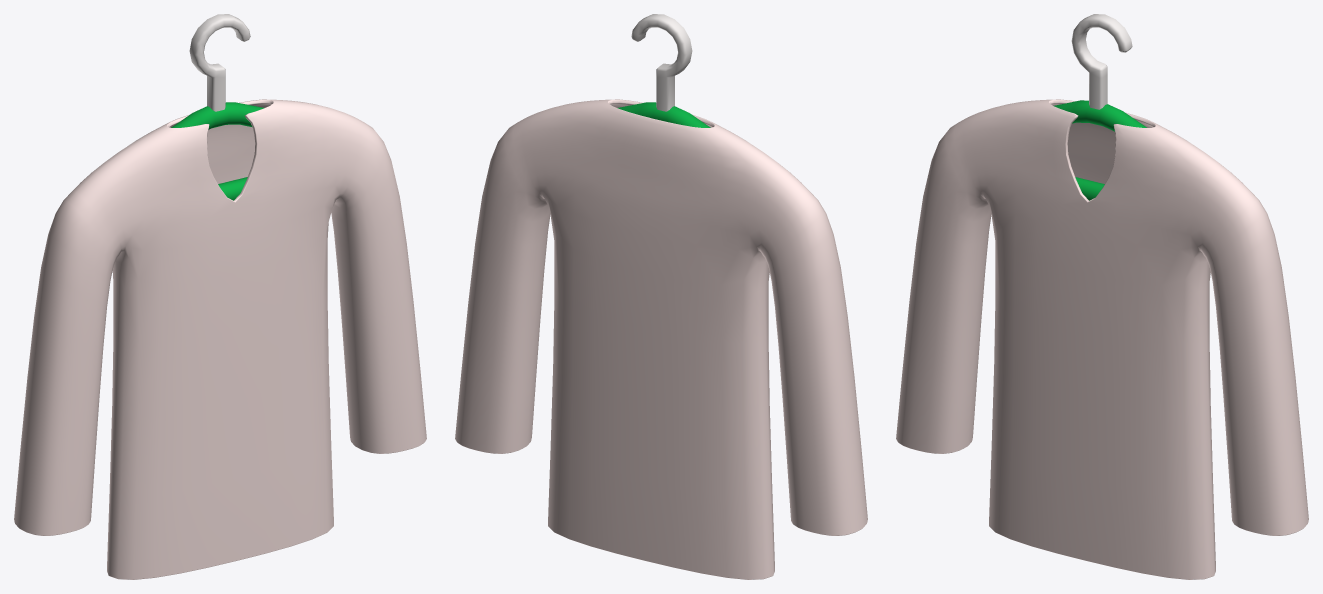
File: Public_19_Clothes_hanger_with_Cloth_1.glb
3 renders of one model, left to right at view 1: azimuth 30°, elevation 25°; view 2: azimuth 150°, elevation 25°; view 3: azimuth 330°, elevation 25°, orthographic.
Visible parts, largest first — view 1: Public_19_Clothes_hanger_with_Cloth_1; view 2: Public_19_Clothes_hanger_with_Cloth_1; view 3: Public_19_Clothes_hanger_with_Cloth_1.
Part boxes in pixels (x1,y1,x2,y2): Public_19_Clothes_hanger_with_Cloth_1: (14,14,426,579); Public_19_Clothes_hanger_with_Cloth_1: (455,14,867,579); Public_19_Clothes_hanger_with_Cloth_1: (896,14,1308,579).
Bounding box in the file's own units: 0.8454 × 1.07 × 0.121.
Materials: 1 (1 with a texture image).
